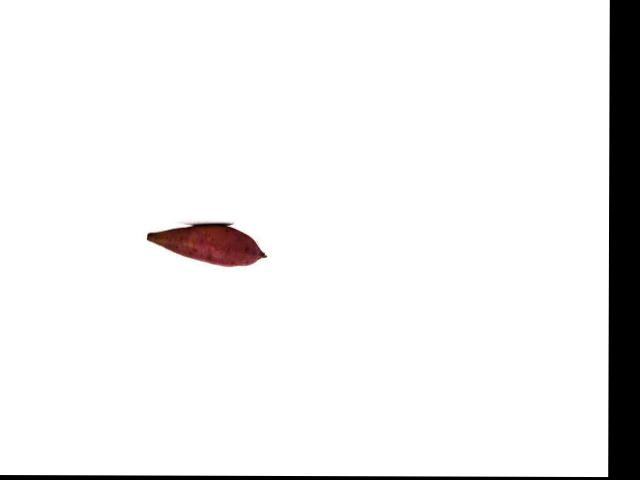sweet_potato: (147, 226, 267, 266)
